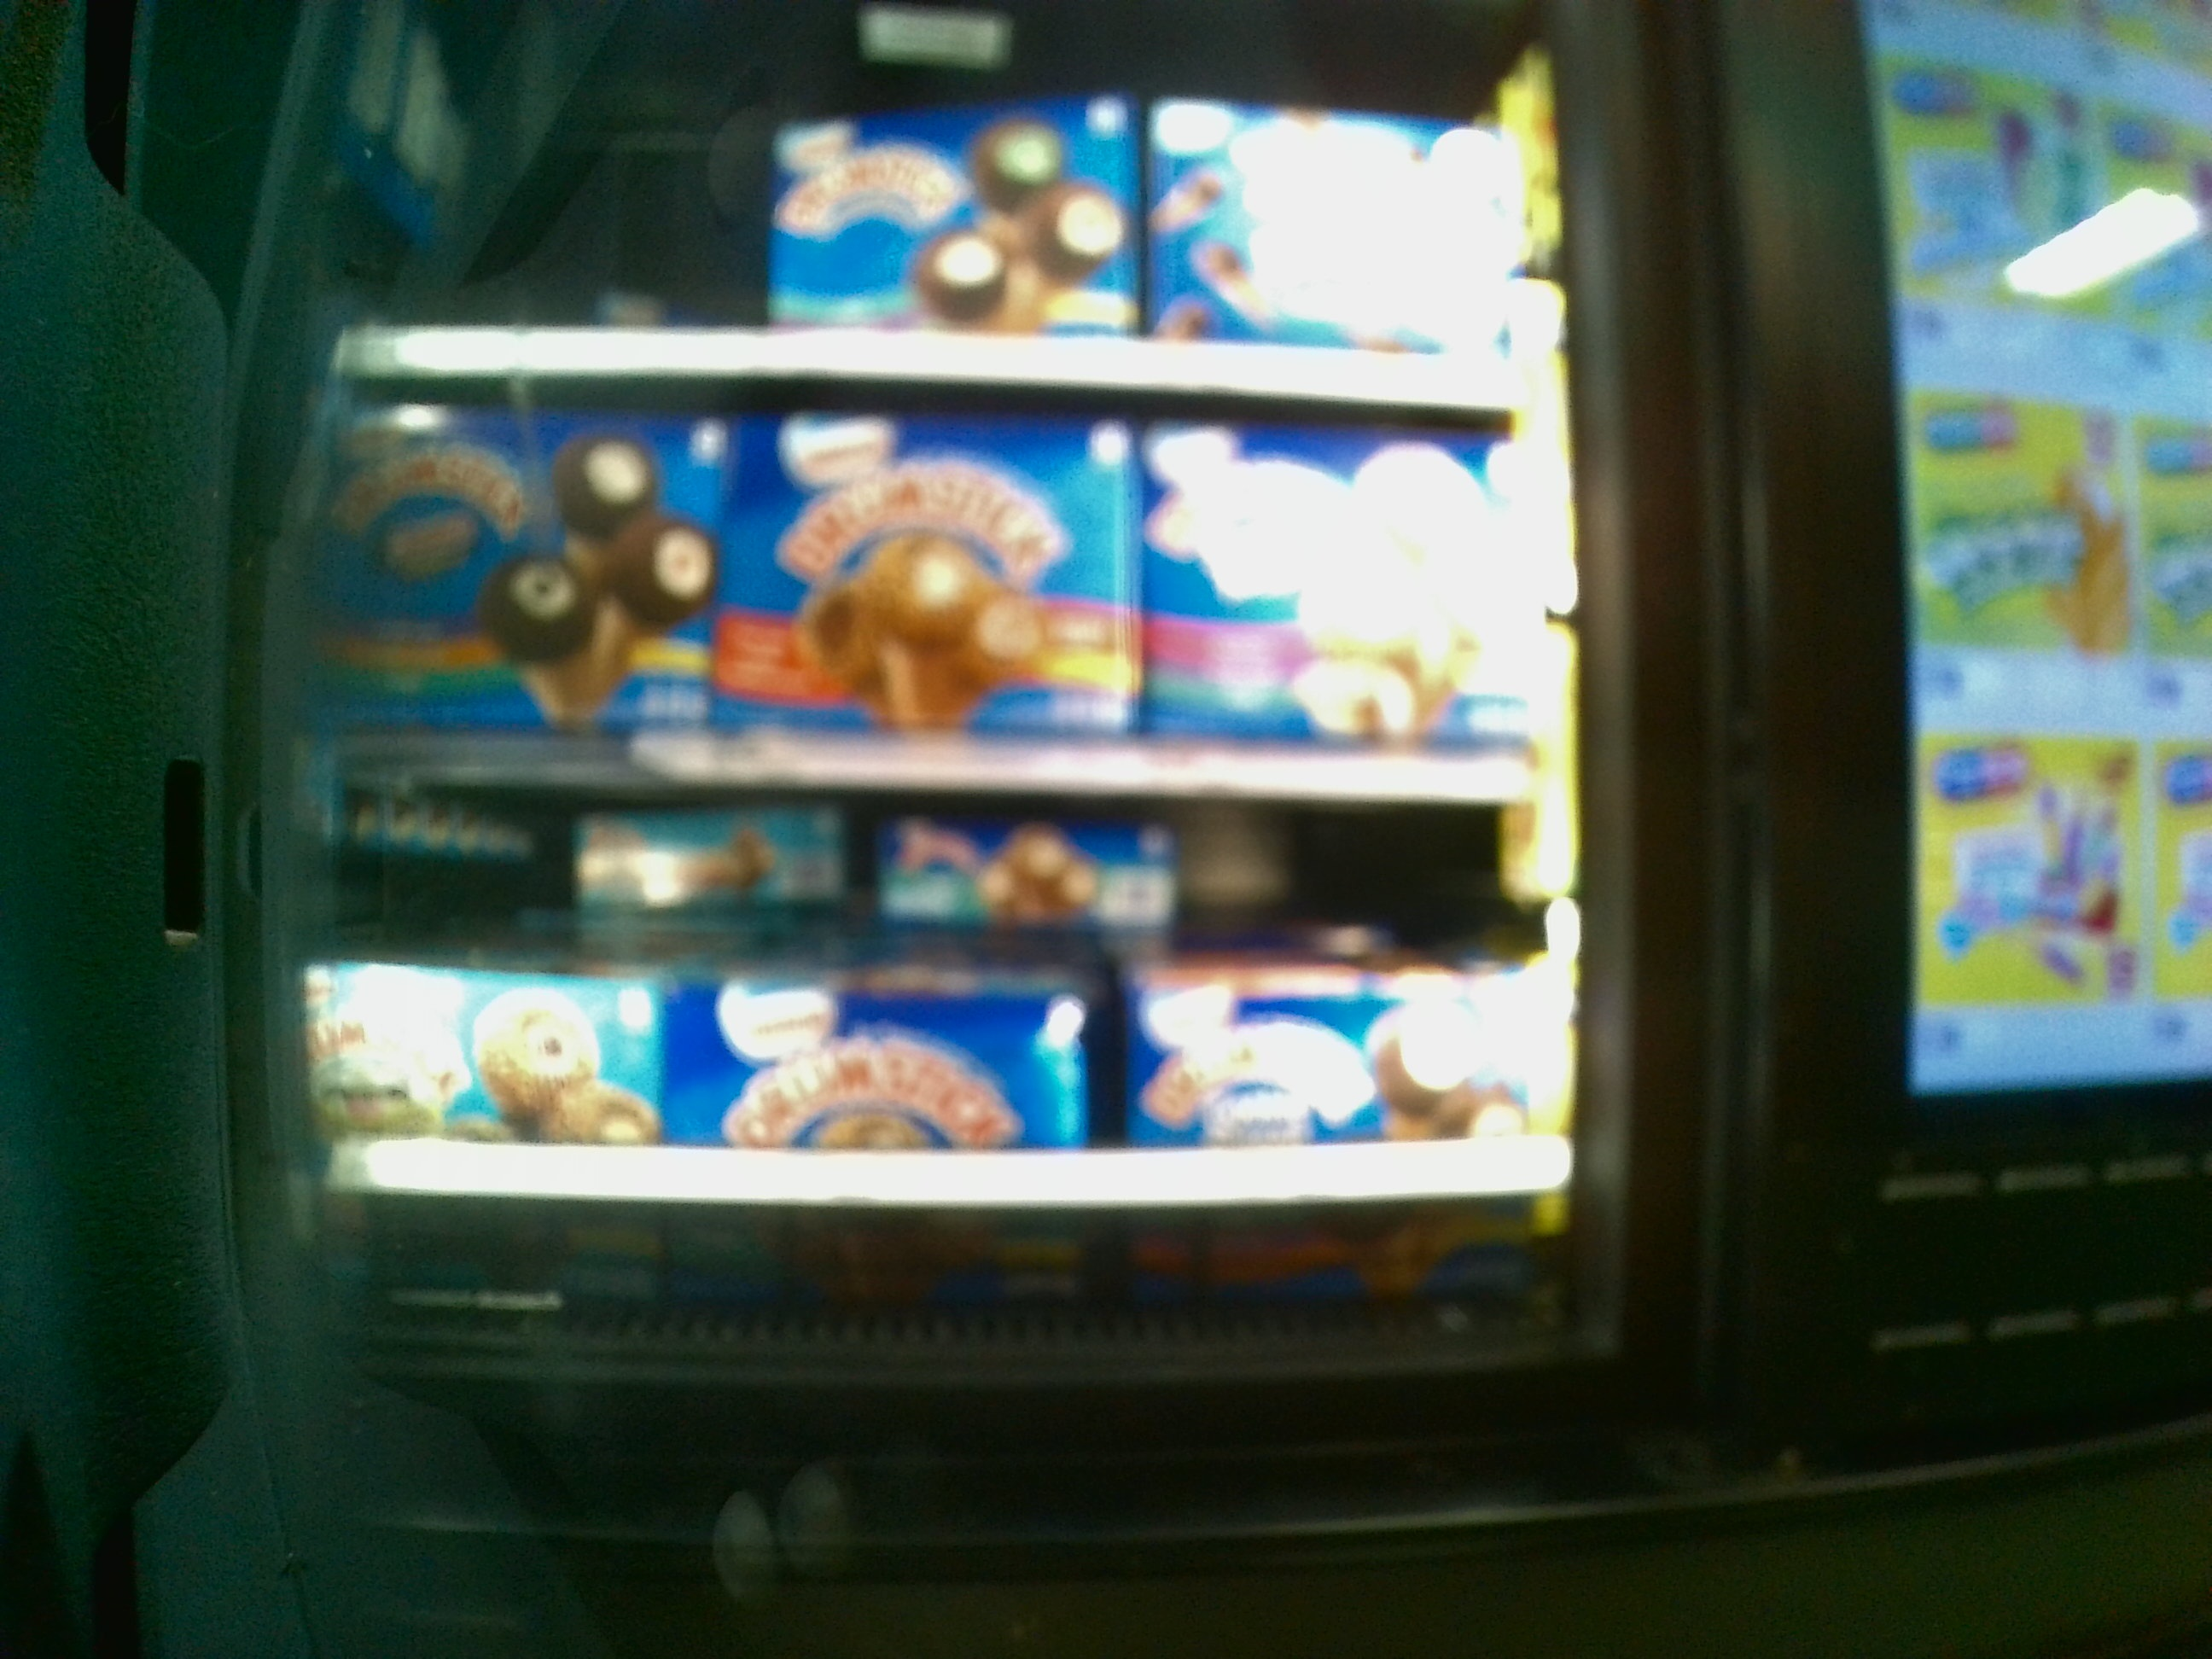shelf: (329, 803, 1568, 1340), (319, 380, 1568, 805)
